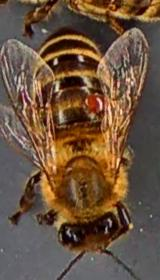varroa_mite: (76, 92, 110, 111)
